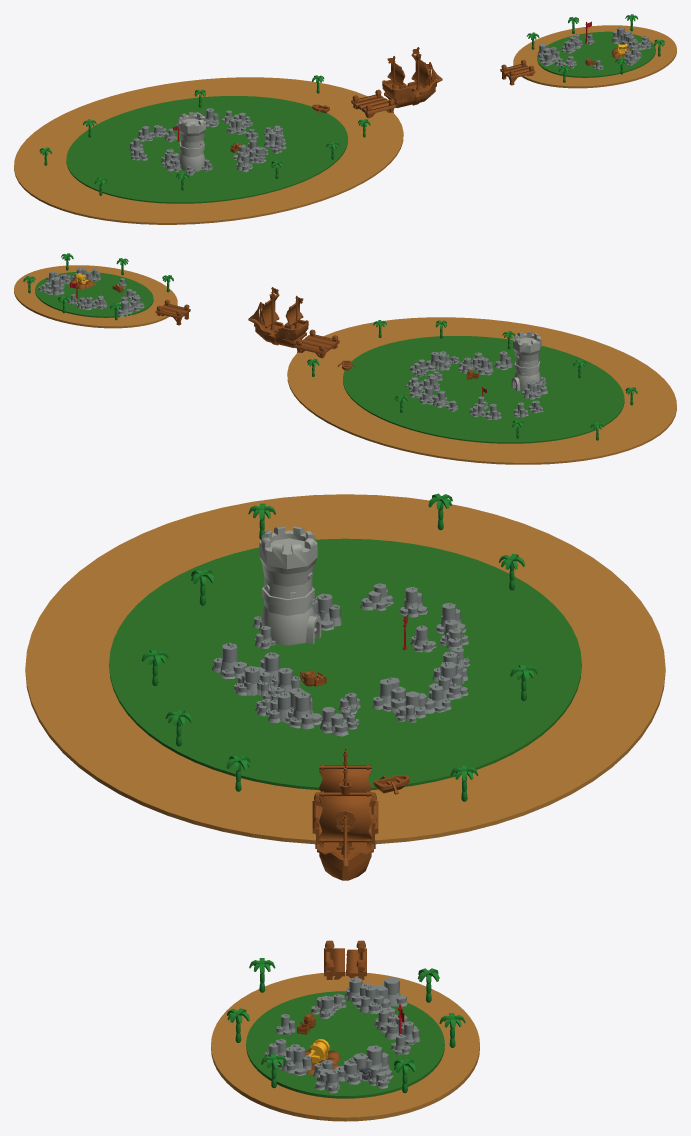
Rendered from coolproject.gltf.
3 views of the same model, one above another, from view 1: azimuth 30°, elevation 25°; view 2: azimuth 150°, elevation 25°; view 3: azimuth 270°, elevation 25° (orthographic). The views are drawn at different scales.
Visible parts, largest first — view 1: Start Island beach, Start Island grass land, Treasure Island beach, Treasure Island grass land, tower-complete-small, ship-pirate-medium, structure-platform-dock, structure-platform-dock-small, sail-a; view 2: Start Island beach, Start Island grass land, Treasure Island beach, Treasure Island grass land, tower-complete-small, ship-pirate-medium, structure-platform-dock, structure-platform-dock-small, sail-a; view 3: Start Island beach, Start Island grass land, Treasure Island beach, Treasure Island grass land, tower-complete-small, sail-a, ship-pirate-medium, structure-platform-dock-small, sail-b.
Boxes of the visible parts, <box> form: Start Island beach: <box>14,77,403,224</box>; Start Island grass land: <box>66,96,347,203</box>; Treasure Island beach: <box>513,25,676,88</box>; Treasure Island grass land: <box>537,31,655,77</box>; tower-complete-small: <box>178,112,205,171</box>; ship-pirate-medium: <box>382,47,442,107</box>; structure-platform-dock: <box>351,89,395,118</box>; structure-platform-dock-small: <box>500,59,535,85</box>; sail-a: <box>411,54,430,88</box>; Start Island beach: <box>287,317,676,464</box>; Start Island grass land: <box>343,336,624,443</box>; Treasure Island beach: <box>14,265,177,328</box>; Treasure Island grass land: <box>35,271,153,317</box>; tower-complete-small: <box>511,331,541,391</box>; ship-pirate-medium: <box>248,287,308,347</box>; structure-platform-dock: <box>295,329,339,358</box>; structure-platform-dock-small: <box>155,299,190,325</box>; sail-a: <box>260,294,279,328</box>; Start Island beach: <box>25,494,665,844</box>; Start Island grass land: <box>109,538,581,790</box>; Treasure Island beach: <box>211,972,479,1121</box>; Treasure Island grass land: <box>246,991,444,1098</box>; tower-complete-small: <box>259,526,321,645</box>; sail-a: <box>319,791,371,843</box>; ship-pirate-medium: <box>317,750,373,880</box>; structure-platform-dock-small: <box>324,940,366,979</box>; sail-b: <box>319,764,371,803</box>.
Size of what is drawn, in the model's own units: 124 by 10.46 by 53.82.
